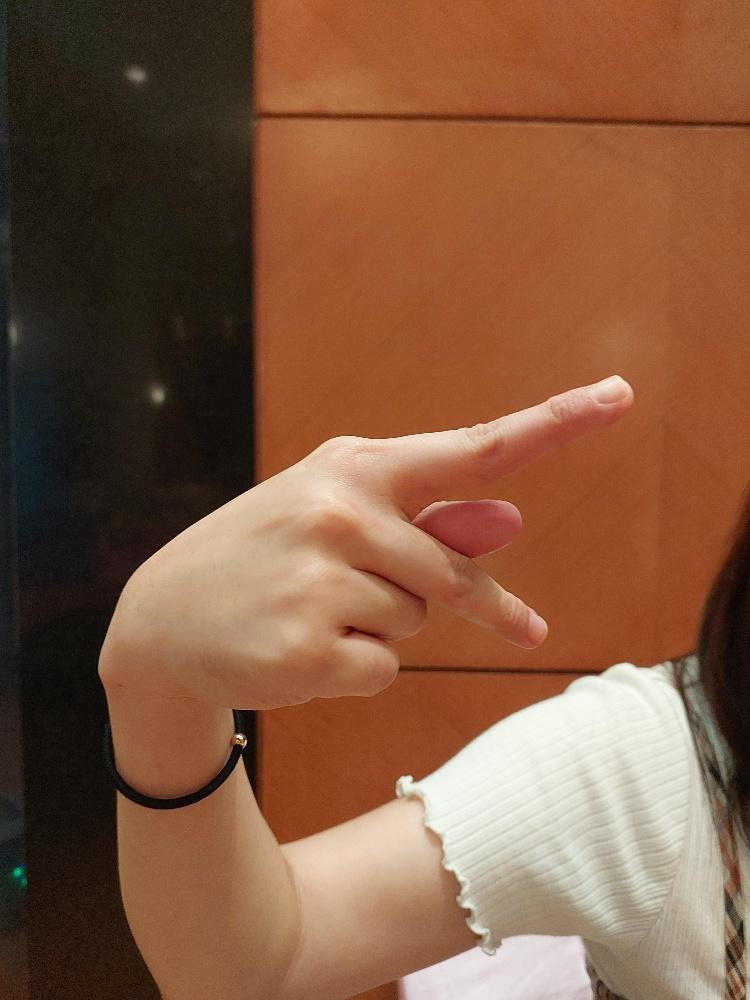k: (96, 373, 638, 713)
